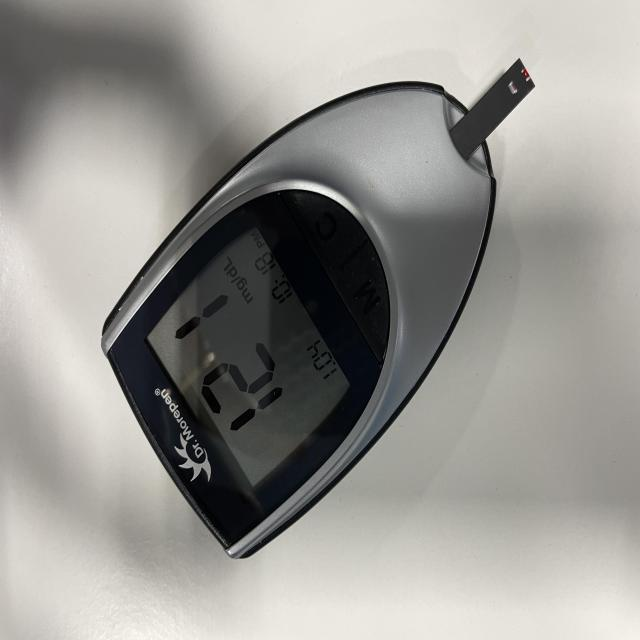gluco: (101, 63, 534, 562)
